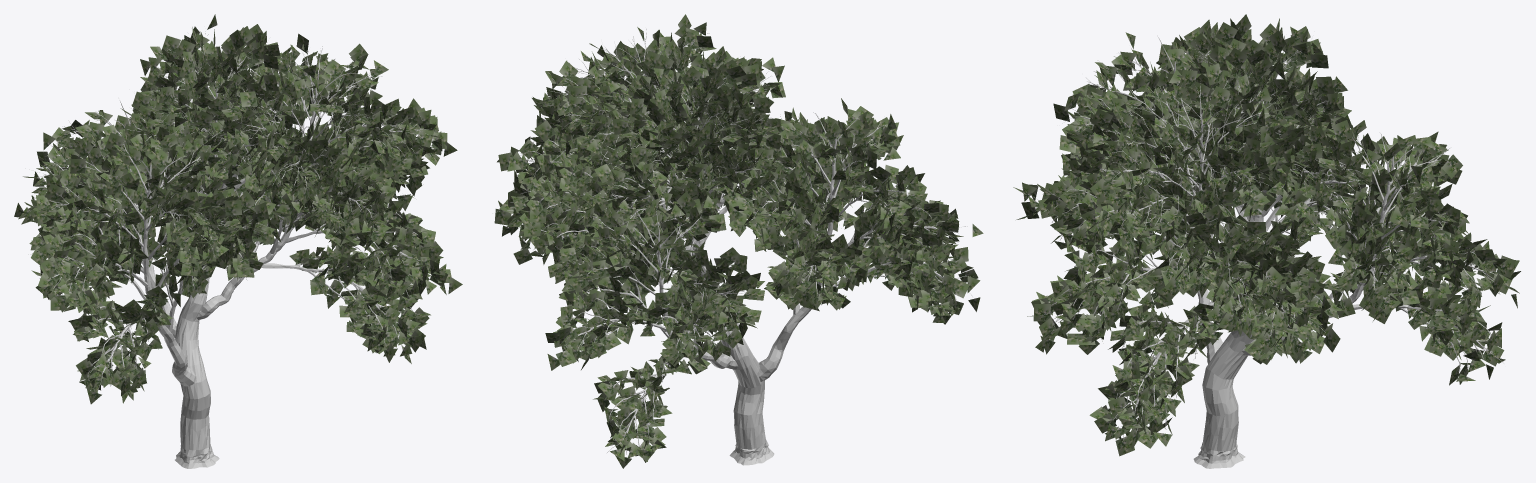
The model's file is FBX_WE17_QuercusAgrifolia_2.fbx.
3 renders of one model, left to right at view 1: azimuth 30°, elevation 25°; view 2: azimuth 150°, elevation 25°; view 3: azimuth 270°, elevation 25°, orthographic. The views are drawn at different scales.
Parts seen in each view (by area): view 1: Leaf01_2, Bark01_2; view 2: Leaf01_2, Bark01_2; view 3: Leaf01_2, Bark01_2.
Part boxes in pixels (x1,y1,x2,y2): Leaf01_2: (14,14,462,404); Bark01_2: (30,27,434,468); Leaf01_2: (494,14,983,468); Bark01_2: (497,28,972,465); Leaf01_2: (1013,14,1520,456); Bark01_2: (1026,25,1507,468).
Size of the model in its own units: 1477 by 1296 by 1327.
